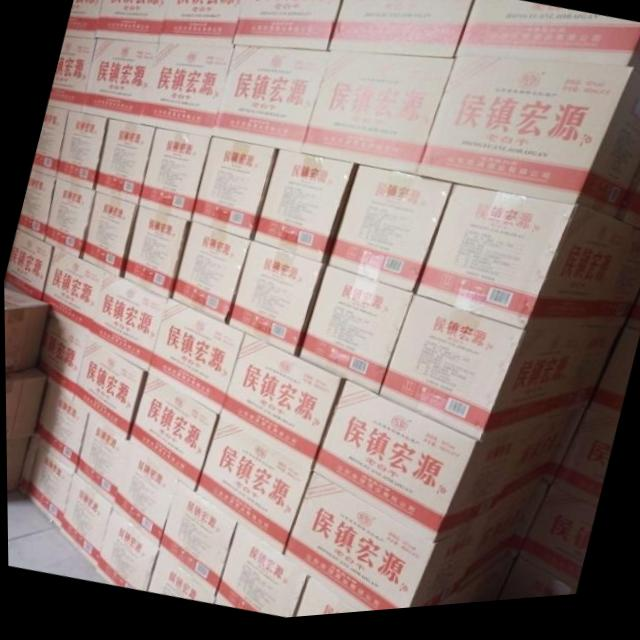box: (412, 63, 640, 229), (378, 301, 619, 451), (308, 386, 527, 549), (414, 191, 640, 338), (282, 478, 490, 618), (301, 56, 452, 181), (217, 337, 342, 475), (193, 419, 309, 559), (325, 170, 450, 299), (455, 0, 640, 84), (295, 269, 411, 400), (212, 50, 329, 157), (252, 154, 354, 267), (146, 301, 241, 418), (227, 243, 321, 361), (127, 376, 215, 494), (328, 0, 473, 64), (156, 485, 234, 602), (189, 140, 274, 243), (138, 45, 231, 139), (212, 527, 304, 622), (517, 494, 595, 599), (170, 225, 250, 326), (86, 273, 165, 373), (71, 338, 146, 443), (110, 445, 176, 547), (137, 131, 210, 223), (550, 419, 616, 518), (81, 40, 156, 125), (122, 208, 187, 301), (234, 0, 342, 53), (41, 248, 103, 336), (93, 120, 154, 208), (94, 509, 154, 593), (72, 414, 126, 506), (58, 475, 108, 570), (79, 195, 136, 278), (36, 310, 85, 402), (37, 385, 87, 474), (55, 110, 107, 192), (159, 0, 245, 49), (25, 446, 72, 531), (3, 288, 47, 374), (44, 180, 91, 259), (47, 37, 95, 112), (146, 553, 212, 607), (3, 229, 50, 300), (96, 0, 168, 45), (4, 369, 44, 440), (30, 107, 67, 178), (294, 580, 356, 622), (16, 171, 53, 241), (64, 0, 103, 38), (5, 438, 27, 492)
